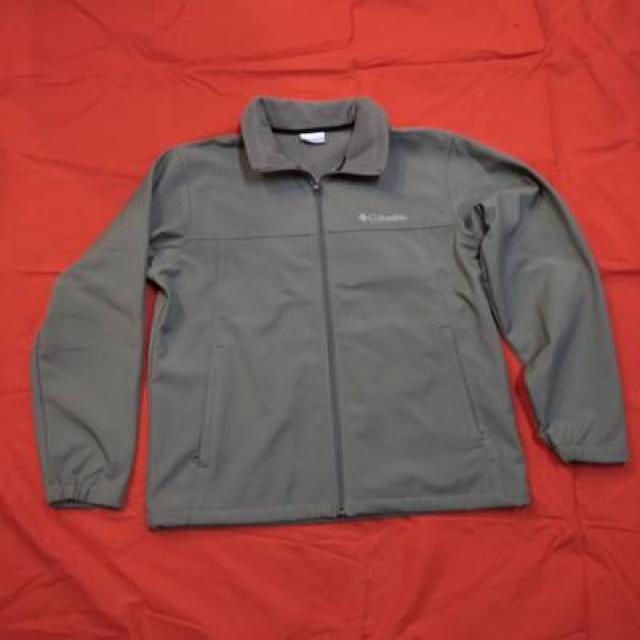Clothes -Biodegradable-: (32, 94, 634, 533)
